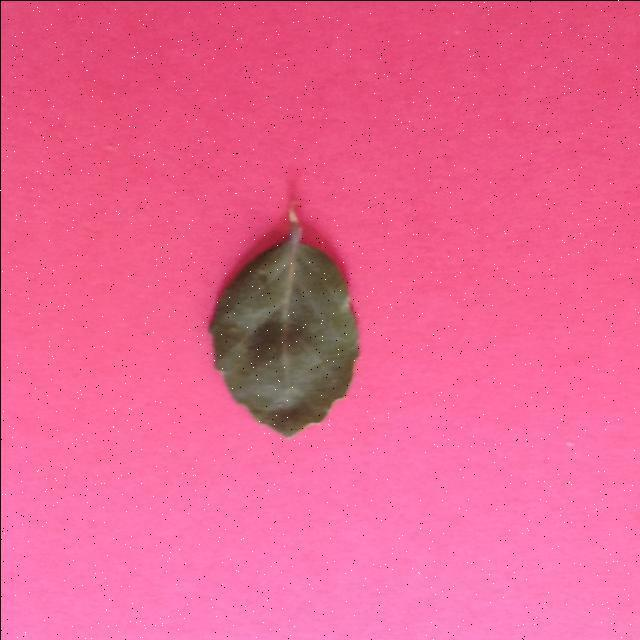foliage: (210, 209, 362, 439)
